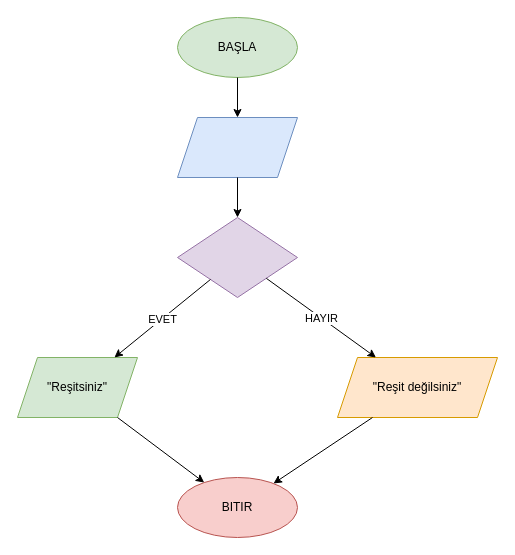
Some shapes in this 515 by 555 pixel diagram are drawn without their labels. Here are the shapes that lost their labels. From the top down, the box of each, then its label:
(176, 116, 298, 178): yaş al
(176, 216, 298, 298): yaş >= 18 ?
